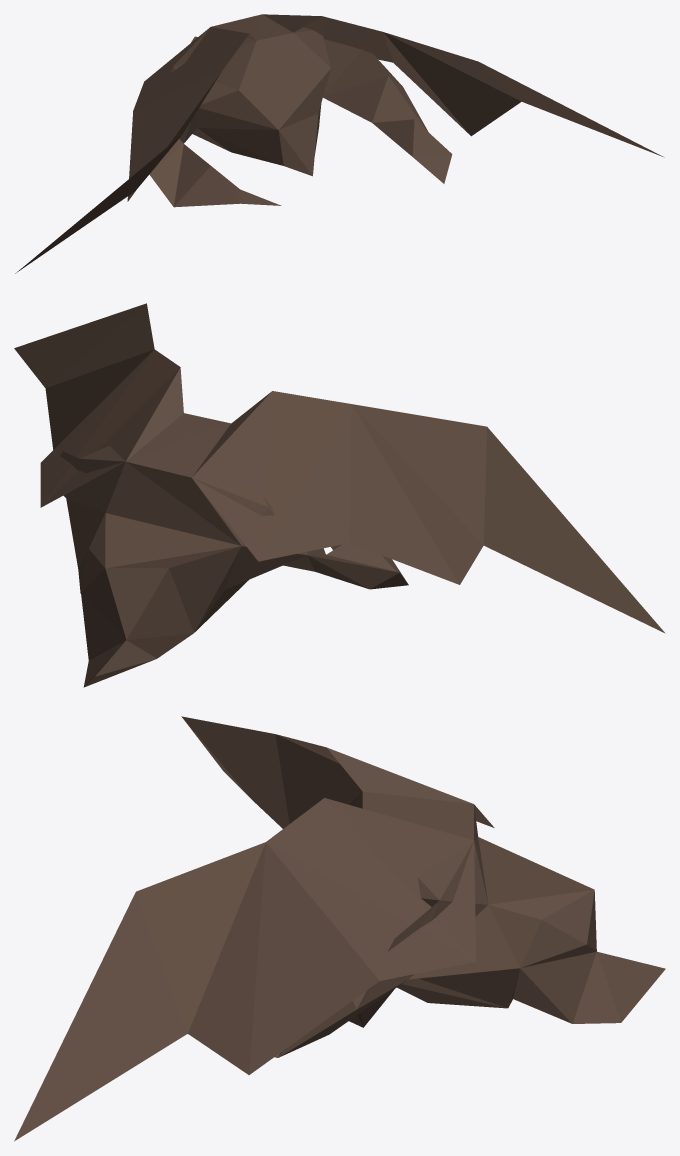
Rendered from DEMON_DIE.OBJ.
3 renders of one model, top to bottom at view 1: azimuth 30°, elevation 25°; view 2: azimuth 150°, elevation 25°; view 3: azimuth 270°, elevation 25°, orthographic. The views are drawn at different scales.
Parts seen in each view (by area): view 1: DEMON_DIE; view 2: DEMON_DIE; view 3: DEMON_DIE.
Boxes of the visible parts, left/top/right/bottom form: DEMON_DIE: left=15, top=14, right=664, bottom=273; DEMON_DIE: left=14, top=303, right=665, bottom=687; DEMON_DIE: left=14, top=716, right=665, bottom=1141.
Bounding box in the file's own units: 3.63 × 1.01 × 2.44.
